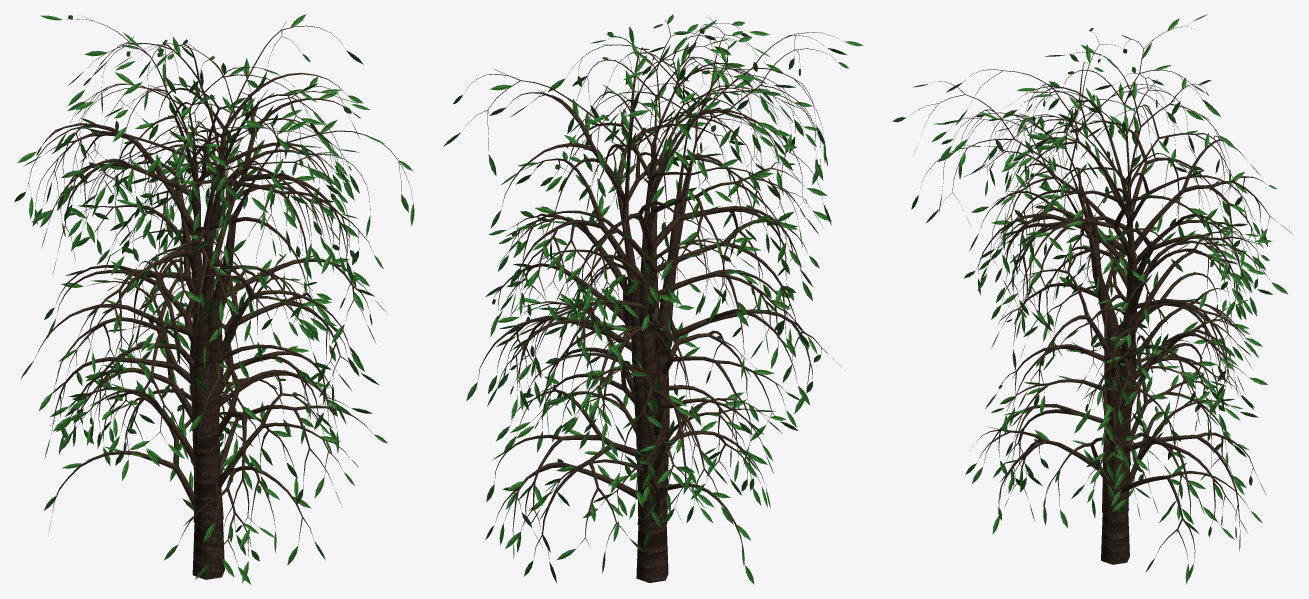
Rendered from Amazonie_Tree_2.fbx.
3 renders of one model, left to right at view 1: azimuth 30°, elevation 25°; view 2: azimuth 150°, elevation 25°; view 3: azimuth 270°, elevation 25°, orthographic. The views are drawn at different scales.
Parts seen in each view (by area): view 1: tree, leaves; view 2: tree, leaves; view 3: tree, leaves.
Boxes of the visible parts, x1,y1,x2,y2 form: tree: [26, 19, 413, 579]; leaves: [14, 14, 414, 584]; tree: [464, 20, 843, 582]; leaves: [443, 14, 863, 584]; tree: [912, 25, 1275, 564]; leaves: [892, 14, 1291, 584].
Bounding box in the file's own units: 1306 × 1967 × 1438.
